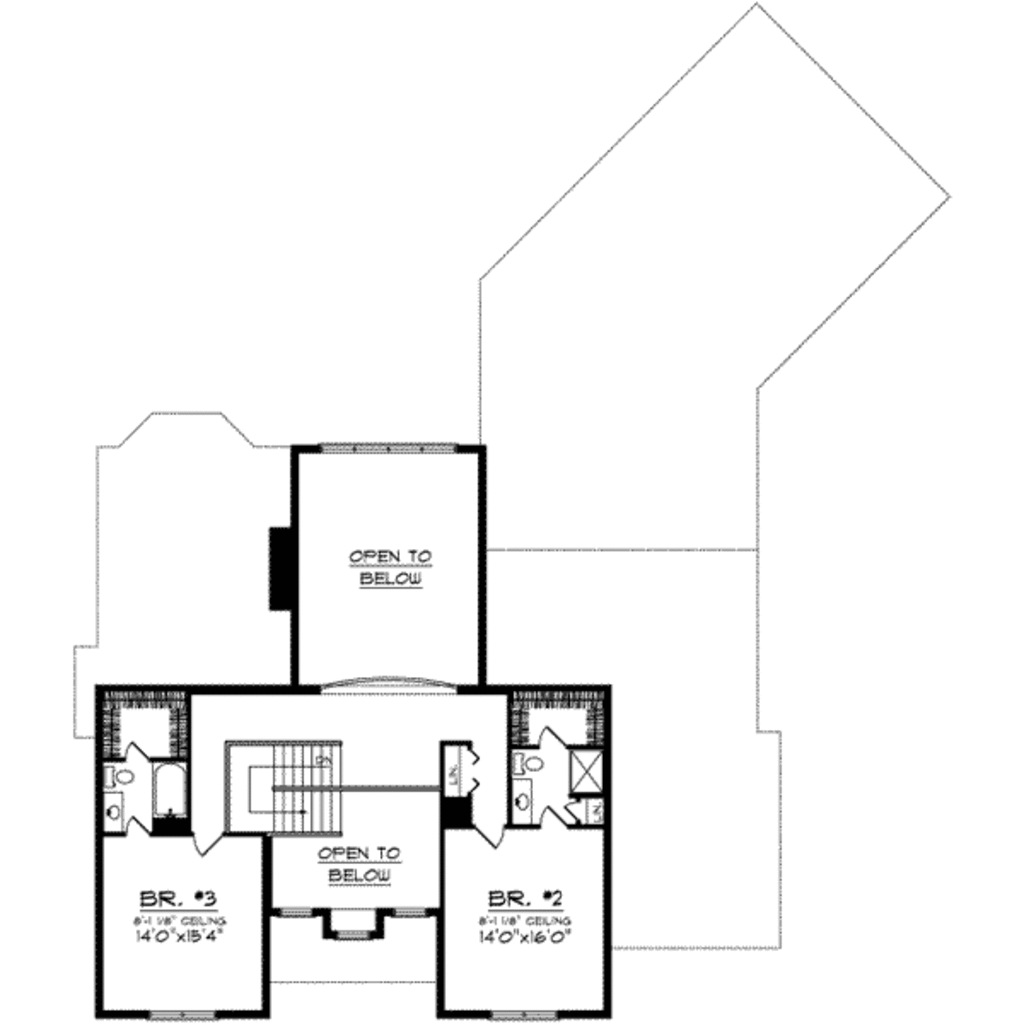door: (475, 814, 513, 862), (186, 825, 233, 855), (532, 805, 570, 836), (111, 736, 157, 760), (122, 812, 156, 838), (535, 717, 560, 747)
large_sink: (494, 749, 554, 778), (97, 762, 141, 793)
small_sink: (95, 797, 129, 835), (516, 782, 532, 827)
stairs: (224, 736, 362, 836)
window: (318, 435, 459, 463), (143, 997, 221, 1024), (475, 1003, 555, 1024), (330, 922, 378, 943), (275, 900, 321, 920), (387, 898, 424, 920)
